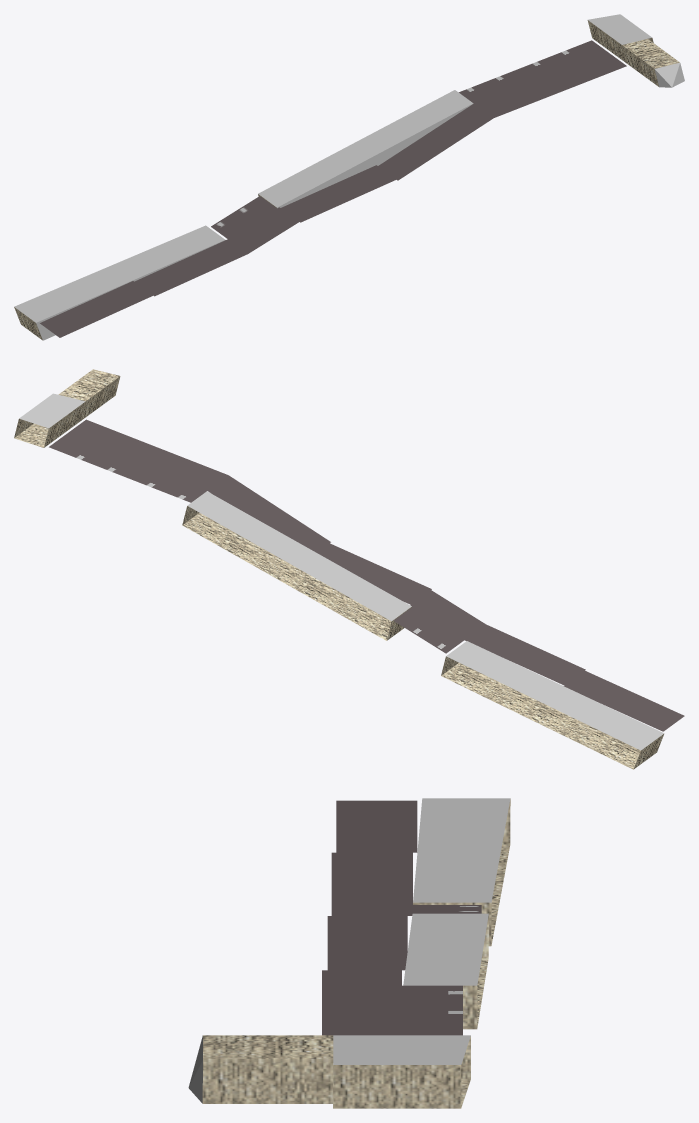
Rendered from Wismari_9_aed-origo.obj.
3 renders of one model, top to bottom at view 1: azimuth 30°, elevation 25°; view 2: azimuth 150°, elevation 25°; view 3: azimuth 270°, elevation 25°, orthographic. The views are drawn at different scales.
Parts seen in each view (by area): view 1: Wismari_9_aed; view 2: Wismari_9_aed; view 3: Wismari_9_aed.
Part boxes in pixels (x1,y1,x2,y2): Wismari_9_aed: [14, 14, 684, 340]; Wismari_9_aed: [14, 369, 684, 769]; Wismari_9_aed: [188, 798, 510, 1108].
Size of the model in its own units: 16 by 4.5 by 3.73.
